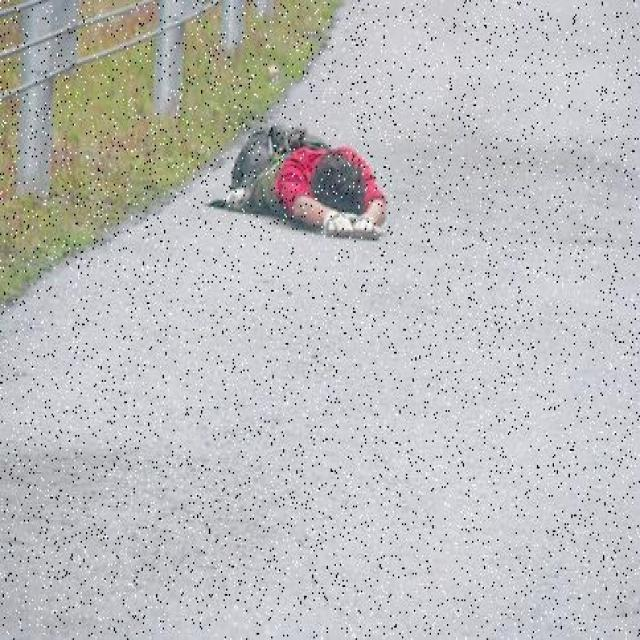fall: (228, 120, 379, 239)
